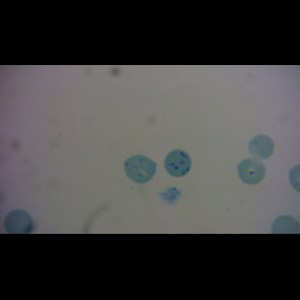aggregate reticulocyte: (163, 149, 192, 178)
erythrocyte: (236, 156, 268, 185), (2, 208, 34, 234), (247, 134, 275, 160)
punctate reticulocyte: (123, 154, 158, 184)
